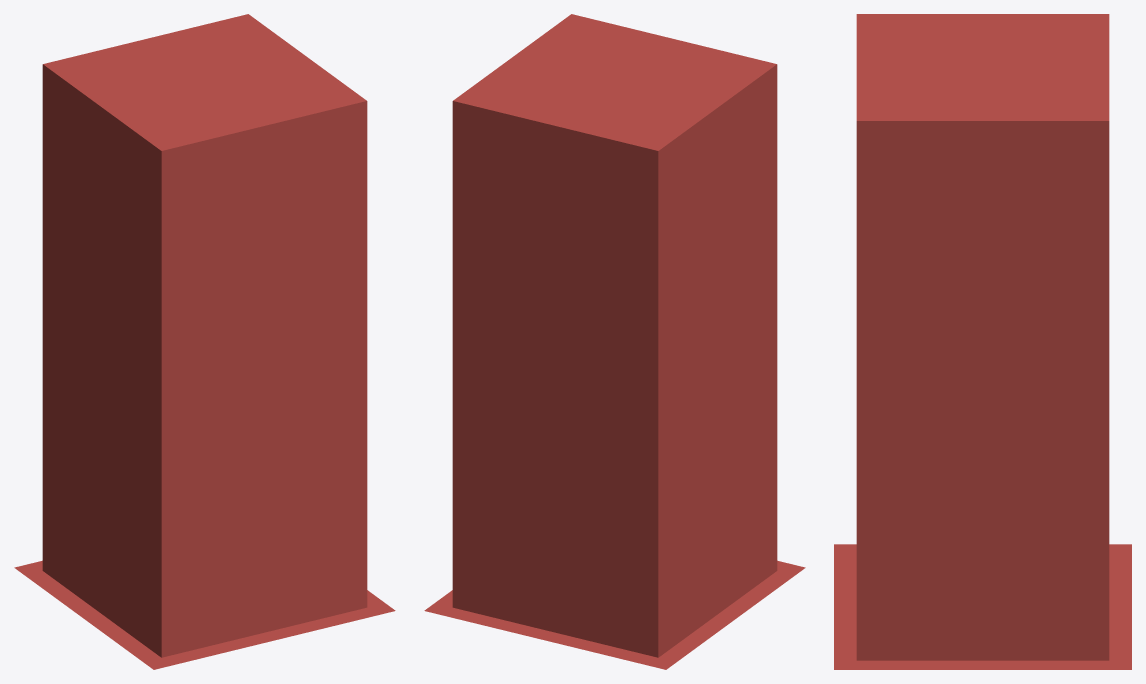
Rendered from 5x5 Office.fbx.
3 views of the same model, side by side, from view 1: azimuth 30°, elevation 25°; view 2: azimuth 150°, elevation 25°; view 3: azimuth 270°, elevation 25° (orthographic). The views are drawn at different scales.
Visible parts, largest first — view 1: 5x5 Office; view 2: 5x5 Office; view 3: 5x5 Office.
Part boxes in pixels (x1,y1,x2,y2): 5x5 Office: (14,14,395,669); 5x5 Office: (424,14,805,669); 5x5 Office: (834,14,1131,669).
Bounding box in the file's own units: 5 × 10 × 5.
